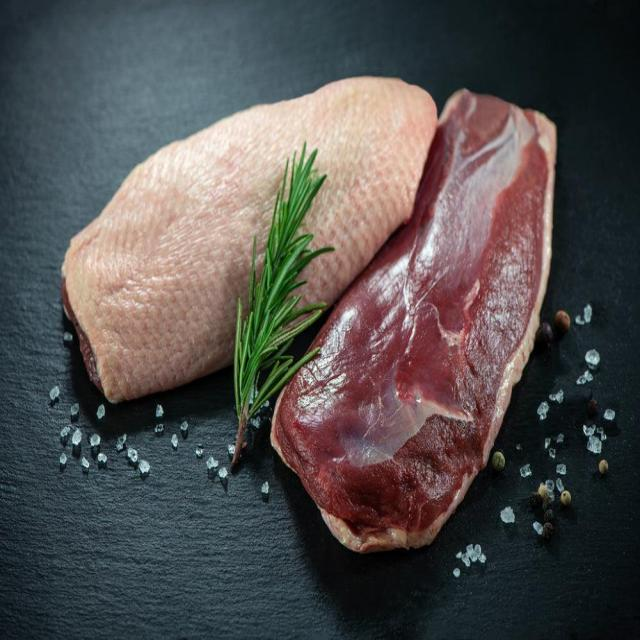duck: (62, 77, 556, 552)
